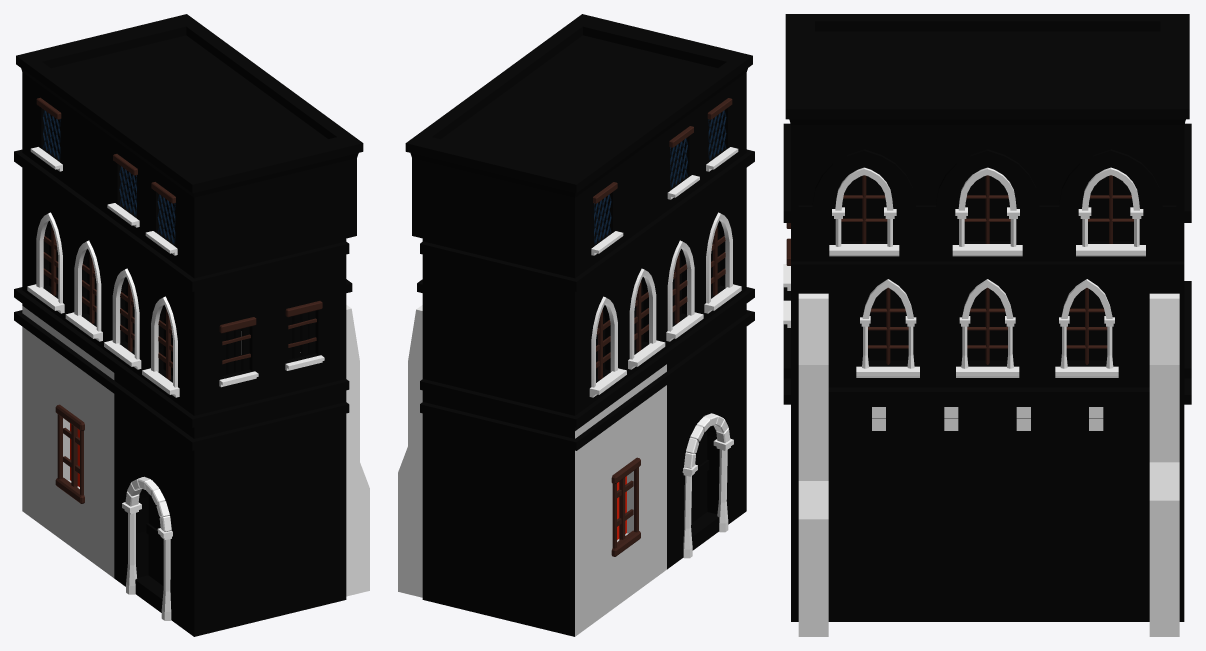
File: civilian_house_18_a.FBX
3 views of the same model, side by side, from view 1: azimuth 30°, elevation 25°; view 2: azimuth 150°, elevation 25°; view 3: azimuth 270°, elevation 25° (orthographic). The views are drawn at different scales.
Visible parts, largest first — view 1: civilian_house_18 _a; view 2: civilian_house_18 _a; view 3: civilian_house_18 _a.
Boxes of the visible parts, left/top/right/bottom form: civilian_house_18 _a: left=14, top=14, right=369, bottom=636; civilian_house_18 _a: left=398, top=14, right=754, bottom=636; civilian_house_18 _a: left=783, top=14, right=1191, bottom=636.
Size of the model in its own units: 634 by 1460 by 1038.
